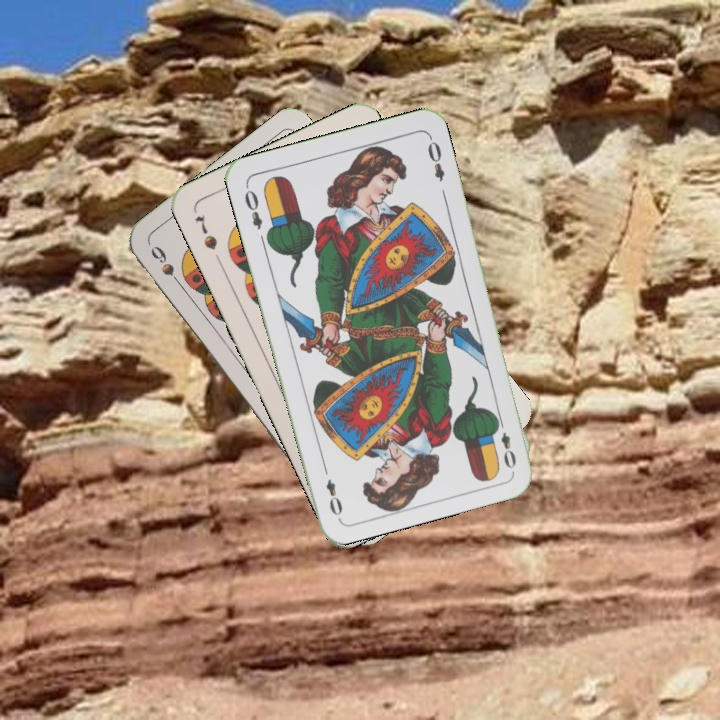EO: (492, 413, 519, 471), (240, 181, 265, 233)
S7: (191, 211, 220, 253)
S9: (146, 241, 187, 292)
